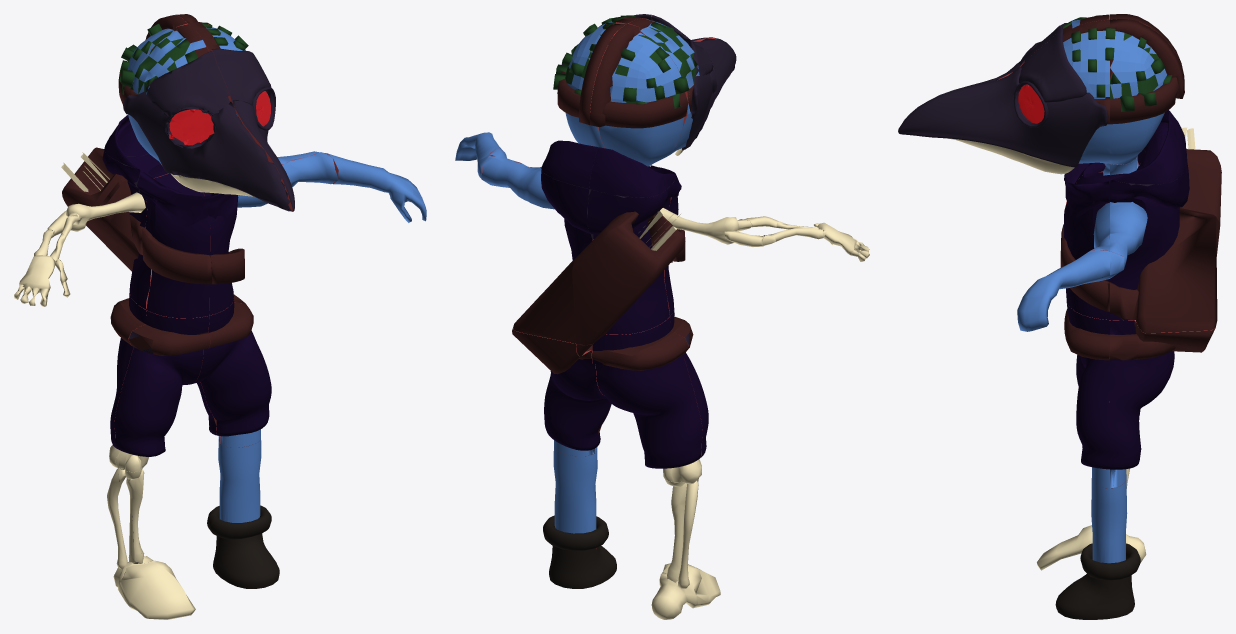
File: Ranger_Explode.fbx
3 views of the same model, side by side, from view 1: azimuth 30°, elevation 25°; view 2: azimuth 150°, elevation 25°; view 3: azimuth 270°, elevation 25° (orthographic). The views are drawn at different scales.
Parts seen in each view (by area): view 1: Mask(Ranger).009, Mask(Ranger).001, Mask(Ranger).005, Mask(Ranger).007, Mask(Ranger).002, Mask(Ranger).015, Mask(Ranger).022, Mask(Ranger), Mask(Ranger).006, Mask(Ranger).017, Mask(Ranger).021, Mask(Ranger).003 (+2 smaller); view 2: Mask(Ranger).007, Mask(Ranger).003, Mask(Ranger).010, Mask(Ranger).008, Mask(Ranger).015, Mask(Ranger).004, Mask(Ranger).009, Mask(Ranger).022, Mask(Ranger).011, Mask(Ranger).013, Mask(Ranger).012, Mask(Ranger).021 (+3 smaller); view 3: Mask(Ranger), Mask(Ranger).008, Mask(Ranger).011, Mask(Ranger).004, Mask(Ranger).015, Mask(Ranger).002, Mask(Ranger).006, Mask(Ranger).017, Mask(Ranger).007, Mask(Ranger).012, Mask(Ranger).022, Mask(Ranger).009 (+1 smaller).
Part boxes in pixels (box(x1,y1,x2,y2)): Mask(Ranger).009: box(123, 24, 291, 211); Mask(Ranger).001: box(114, 310, 210, 472); Mask(Ranger).005: box(137, 172, 212, 318); Mask(Ranger).007: box(47, 147, 168, 309); Mask(Ranger).002: box(191, 299, 271, 447); Mask(Ranger).015: box(207, 439, 279, 588); Mask(Ranger).022: box(107, 466, 195, 619); Mask(Ranger): box(188, 22, 294, 211); Mask(Ranger).006: box(203, 152, 338, 315); Mask(Ranger).017: box(325, 153, 426, 222); Mask(Ranger).021: box(14, 215, 80, 306); Mask(Ranger).003: box(109, 270, 146, 468); Mask(Ranger).007: box(572, 176, 763, 345); Mask(Ranger).003: box(576, 317, 702, 482); Mask(Ranger).010: box(590, 24, 689, 166); Mask(Ranger).008: box(482, 155, 593, 343); Mask(Ranger).015: box(543, 448, 616, 588); Mask(Ranger).004: box(512, 328, 610, 456); Mask(Ranger).009: box(628, 15, 736, 155); Mask(Ranger).022: box(651, 478, 720, 619); Mask(Ranger).011: box(553, 23, 627, 148); Mask(Ranger).013: box(589, 147, 675, 197); Mask(Ranger).012: box(541, 140, 597, 188); Mask(Ranger).021: box(744, 216, 869, 261); Mask(Ranger): box(898, 19, 1110, 174); Mask(Ranger).008: box(1110, 156, 1217, 333); Mask(Ranger).011: box(1110, 19, 1184, 164); Mask(Ranger).004: box(1110, 320, 1215, 488); Mask(Ranger).015: box(1055, 479, 1140, 619); Mask(Ranger).002: box(1064, 301, 1109, 488); Mask(Ranger).006: box(1060, 163, 1109, 319); Mask(Ranger).017: box(1017, 250, 1124, 331); Mask(Ranger).007: box(1137, 127, 1221, 256); Mask(Ranger).012: box(1112, 120, 1185, 184); Mask(Ranger).022: box(1037, 468, 1146, 570); Mask(Ranger).009: box(901, 14, 1109, 124).
Bounding box in the file's own units: 1248 × 1661 × 857.
